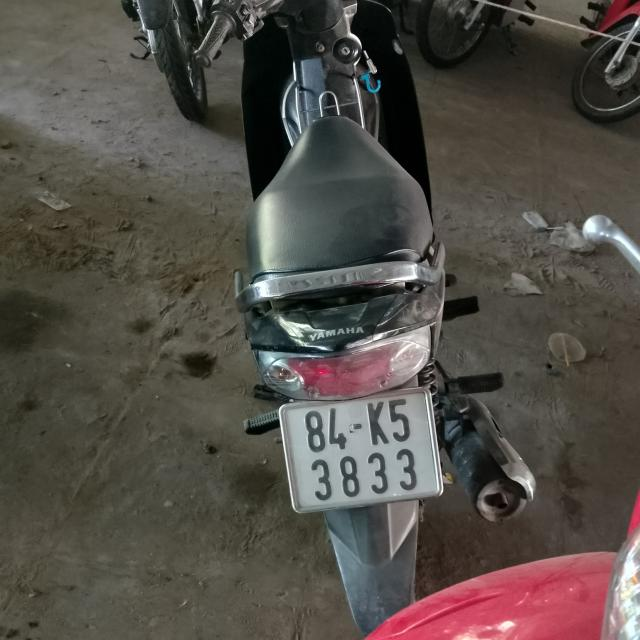3: (310, 458, 335, 504), (366, 451, 389, 493), (396, 447, 418, 490)
4: (330, 408, 348, 450)
5: (389, 398, 411, 442)
8: (337, 455, 362, 499), (304, 412, 326, 453)
K: (366, 400, 388, 448)
